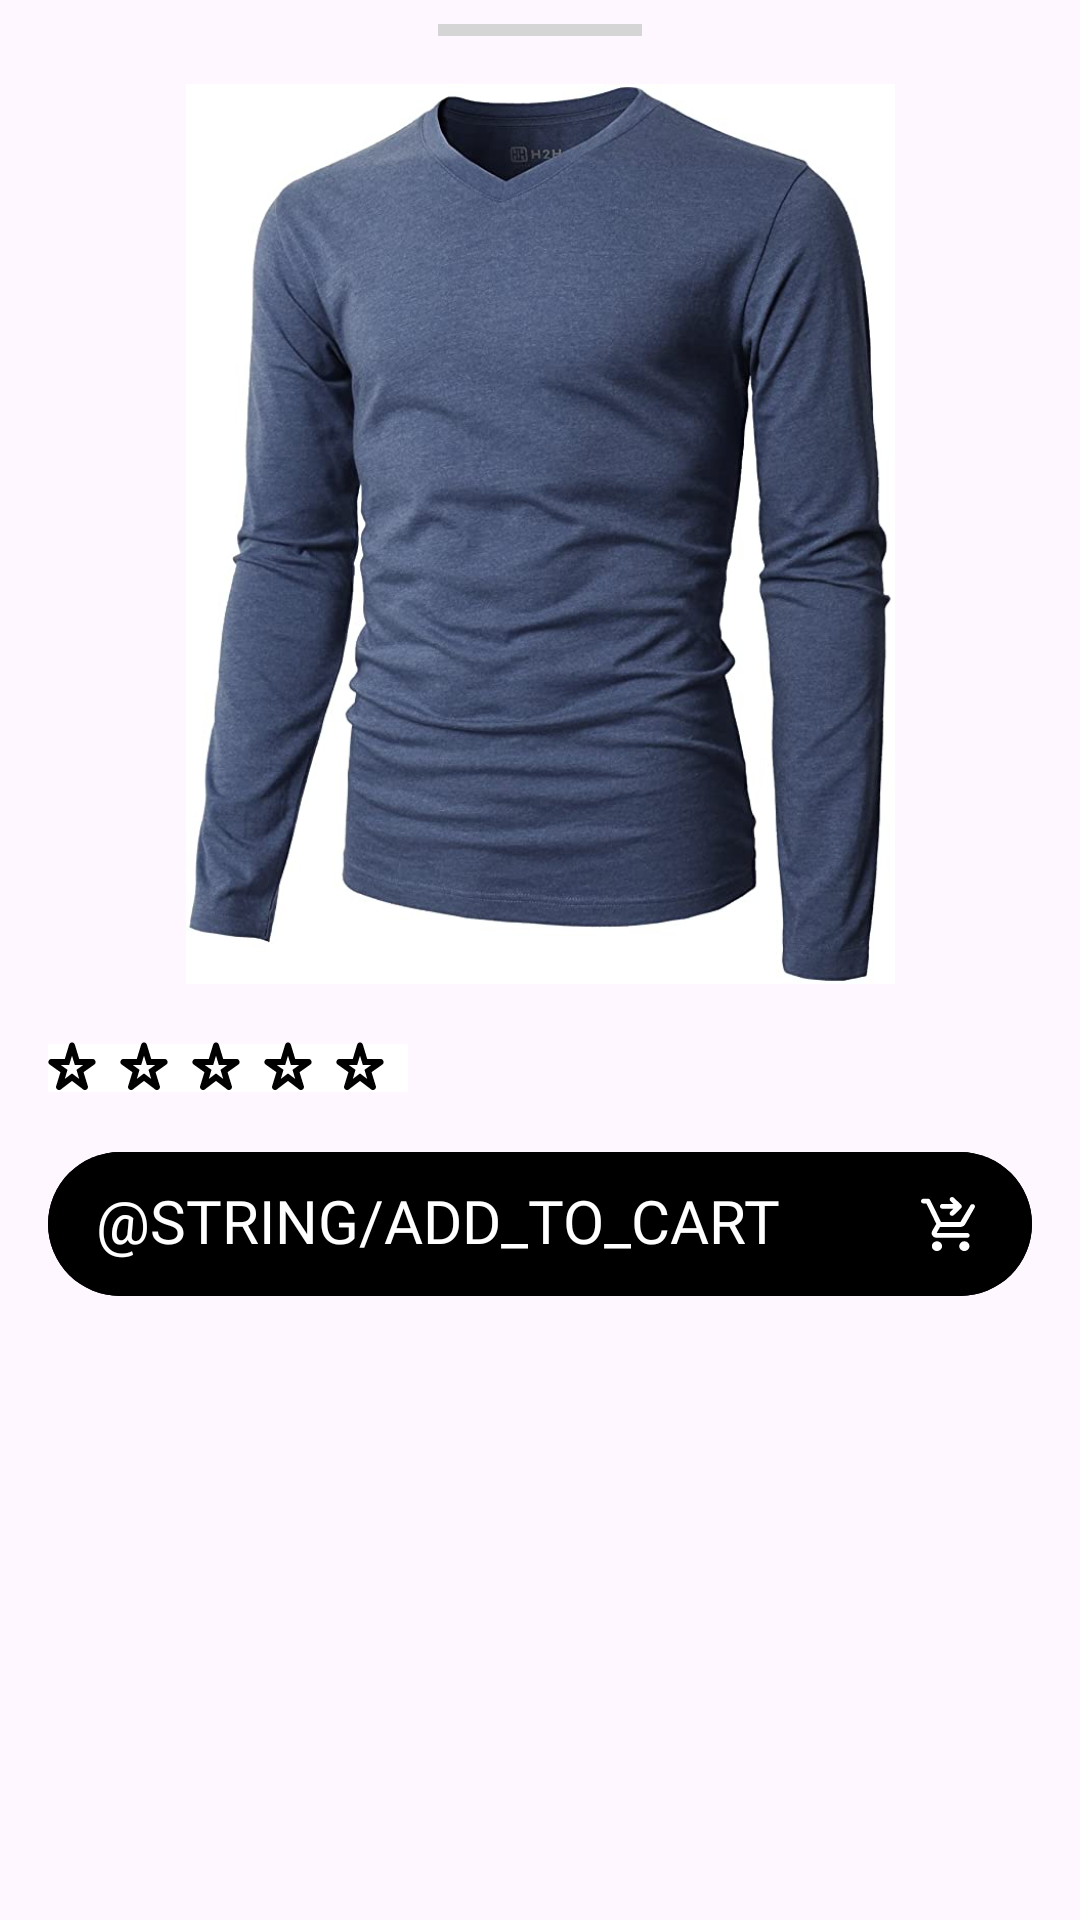

Point at icon controls on the screen. Image size 1080*1920, points as [x,y].
star empty: [72,1066], [144,1066], [216,1066], [288,1066], [360,1066]
